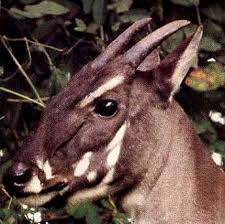sao_la: (9, 27, 199, 187)
